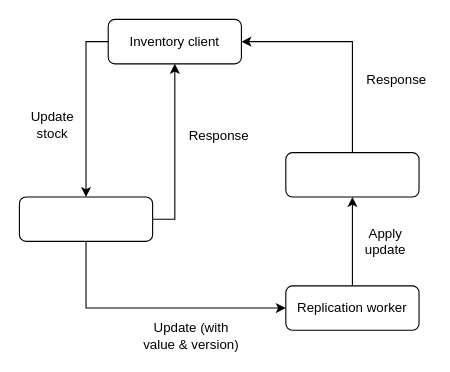
Image size: 450x372. Some labels were removed from this diagram. The centre of each missing label's shape, as x and y in pixels:
Primary replica: (x=85, y=218)
Secondary replica: (x=352, y=174)
